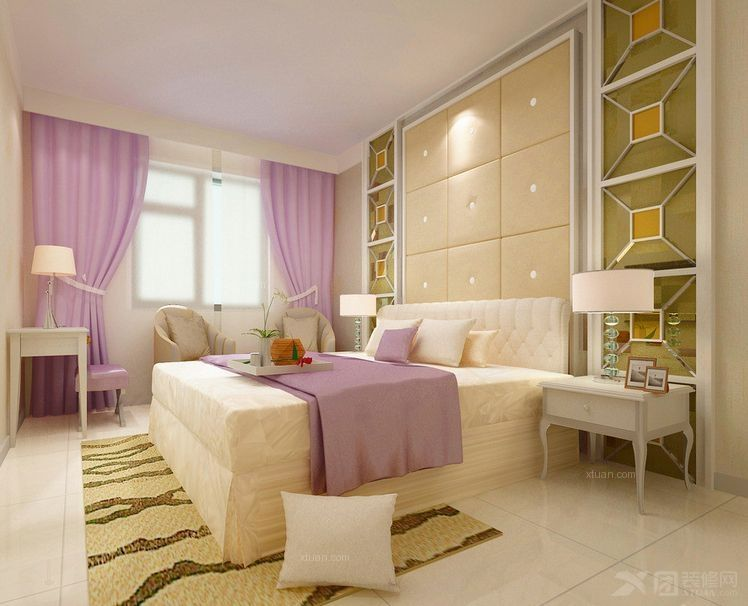床: (144, 346, 583, 521)
枕头: (276, 497, 407, 590), (359, 314, 499, 371)
灯: (566, 260, 653, 381), (26, 241, 73, 328), (333, 291, 378, 351), (447, 106, 489, 153)
